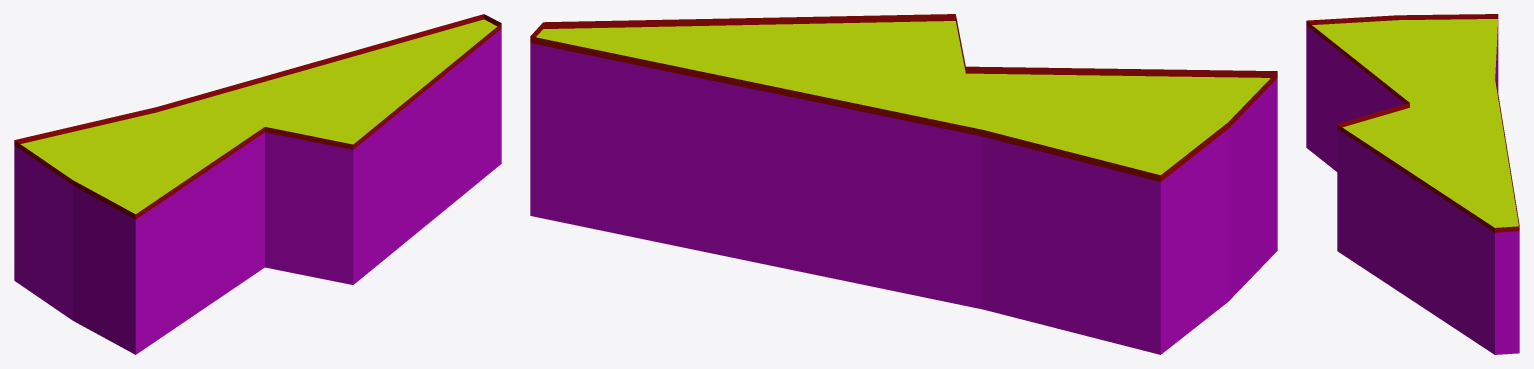
File: scl_57.glb
3 renders of one model, left to right at view 1: azimuth 30°, elevation 25°; view 2: azimuth 150°, elevation 25°; view 3: azimuth 270°, elevation 25°, orthographic. The views are drawn at different scales.
Parts seen in each view (by area): view 1: scl_57; view 2: scl_57; view 3: scl_57.
Part boxes in pixels (<box>): scl_57: <box>14,14,501,354</box>; scl_57: <box>530,14,1277,354</box>; scl_57: <box>1306,14,1519,354</box>.
Size of the model in its own units: 32.77 by 9.08 by 13.83.
